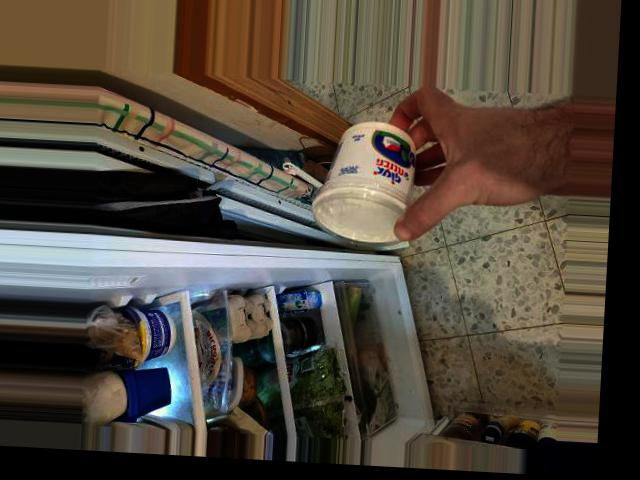cotage: (313, 114, 429, 242)
